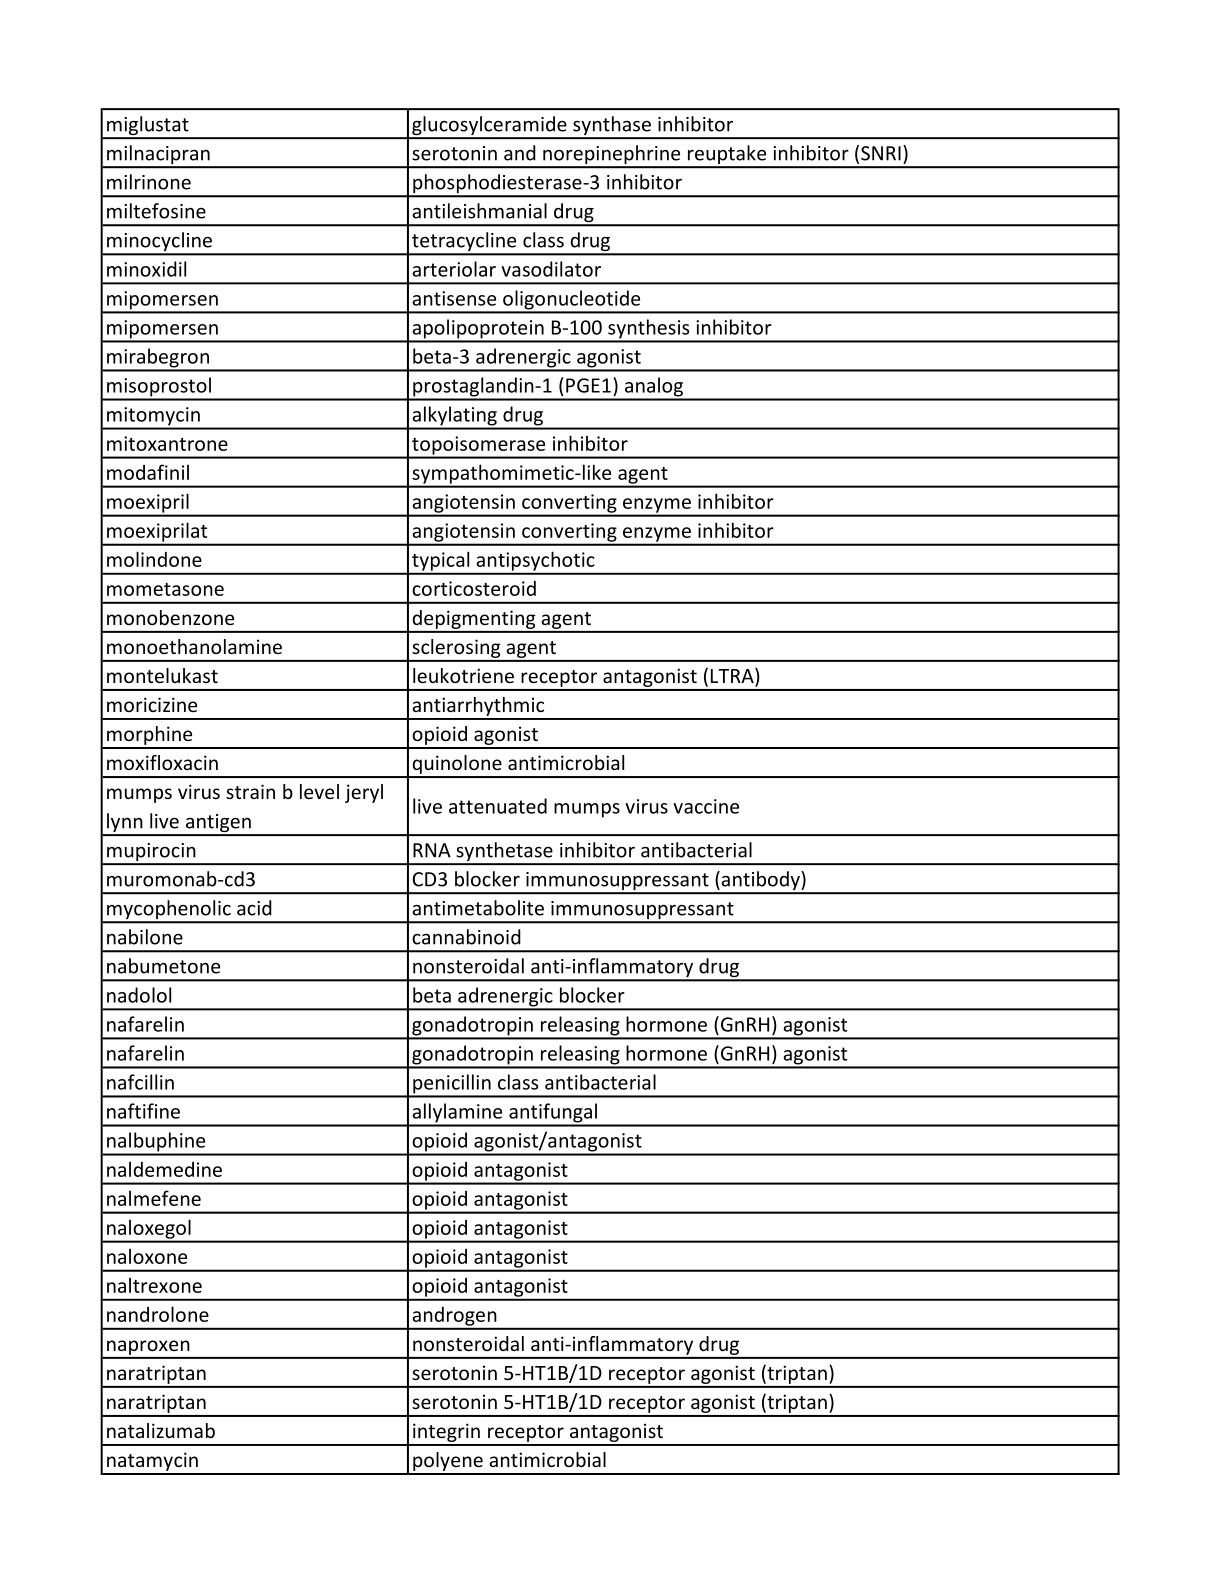full_lined: (99, 108, 1120, 1476)
